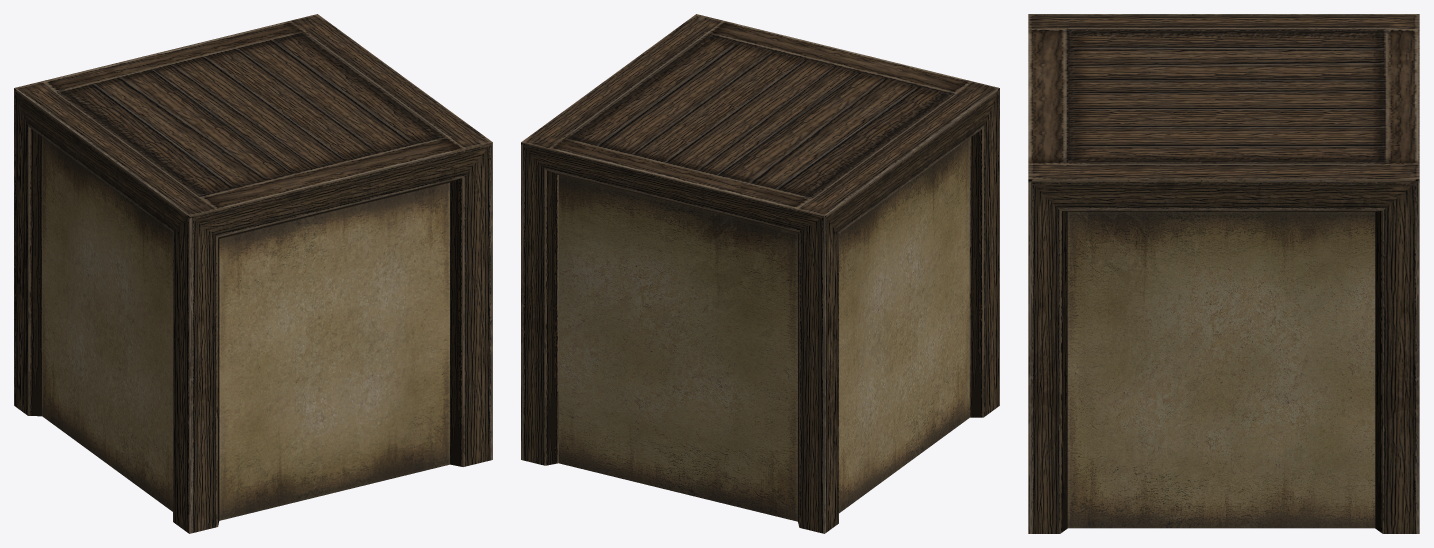
File: House_4X4_04a.fbx
3 views of the same model, side by side, from view 1: azimuth 30°, elevation 25°; view 2: azimuth 150°, elevation 25°; view 3: azimuth 270°, elevation 25° (orthographic). The views are drawn at different scales.
Parts seen in each view (by area): view 1: House_4X4_04a; view 2: House_4X4_04a; view 3: House_4X4_04a.
Part boxes in pixels (box(x1,y1,x2,y2)): House_4X4_04a: box(14, 14, 492, 533); House_4X4_04a: box(521, 14, 999, 533); House_4X4_04a: box(1028, 14, 1419, 533).
Bounding box in the file's own units: 4 × 4 × 4.
